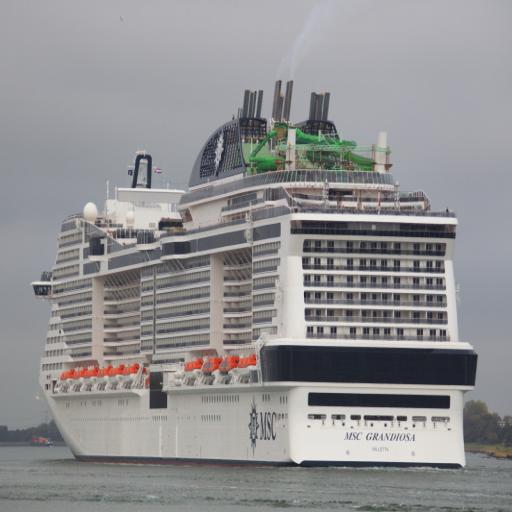cruises: (30, 77, 483, 473)
